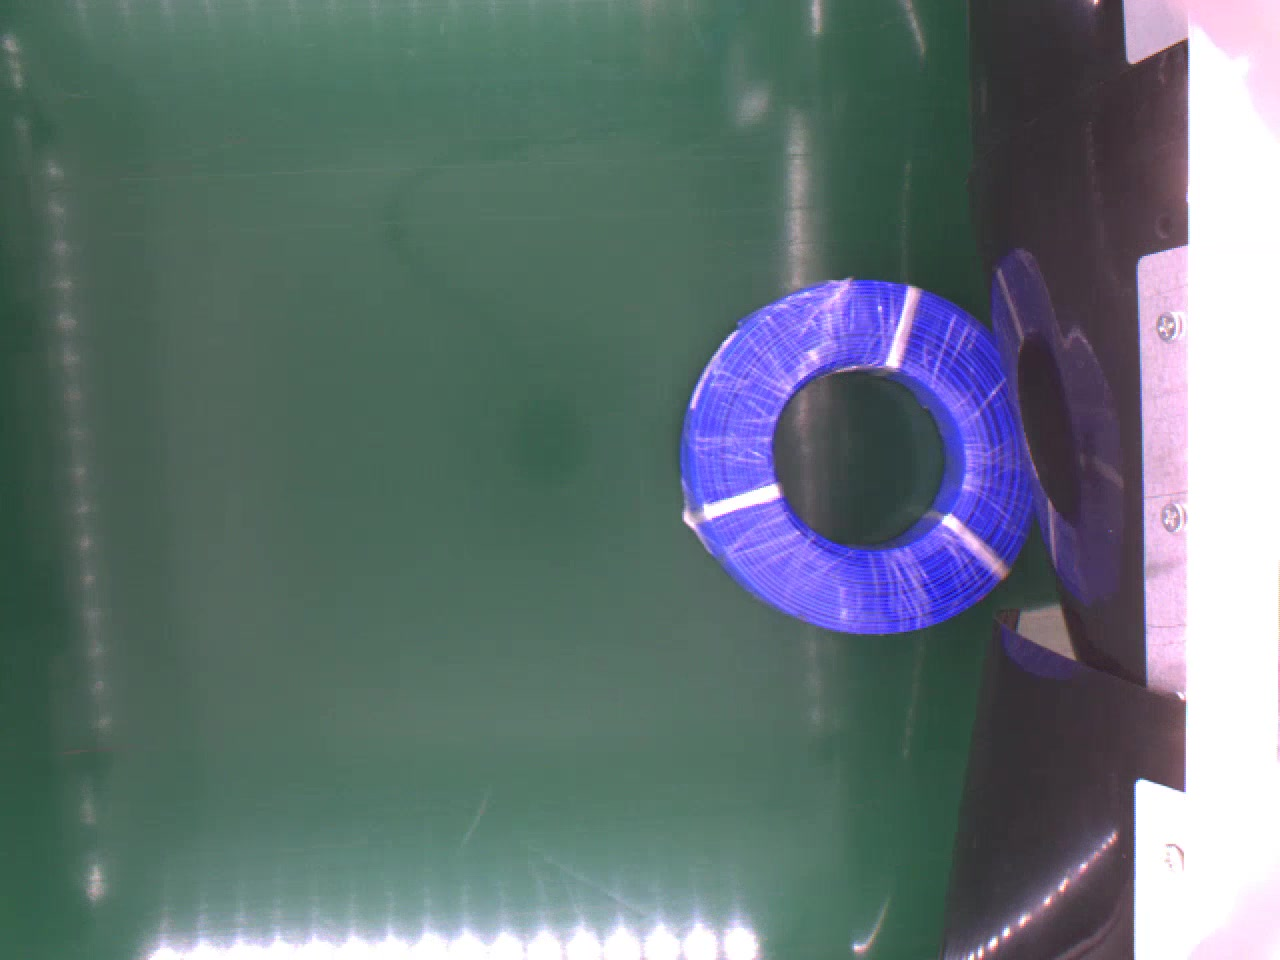blue: (673, 276, 1038, 641)
